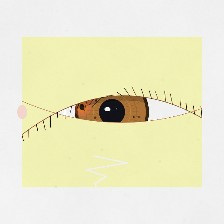foreign_body_visible: (126, 117, 169, 152)
